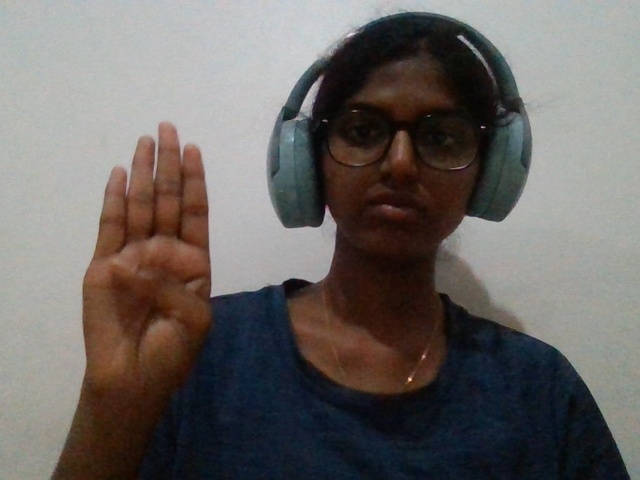B: (38, 81, 246, 456)
